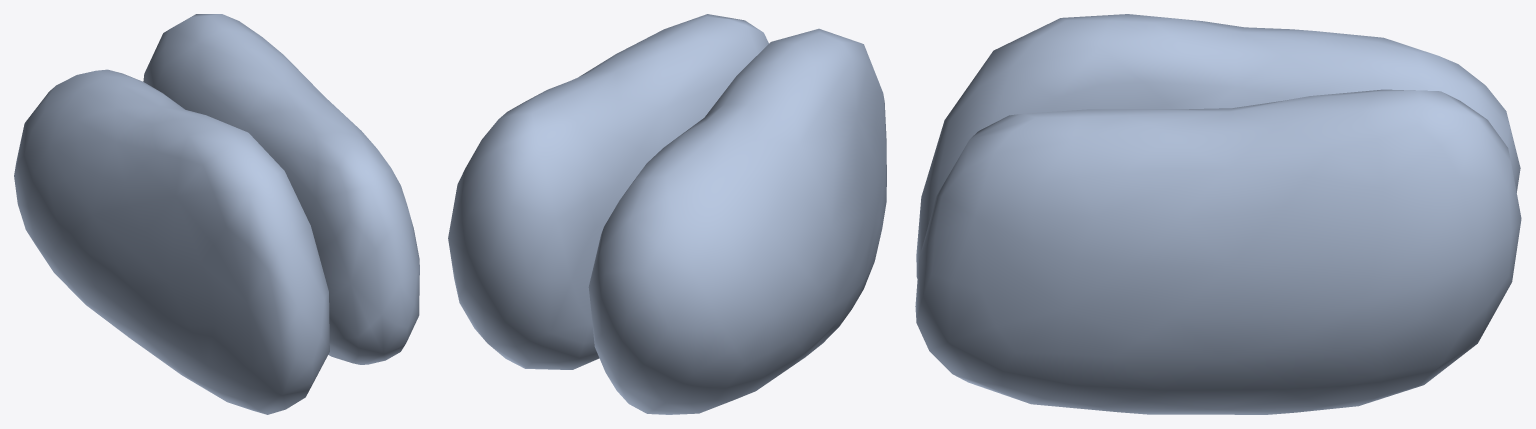
3 views of the same model, side by side, from view 1: azimuth 30°, elevation 25°; view 2: azimuth 150°, elevation 25°; view 3: azimuth 270°, elevation 25° (orthographic). The views are drawn at different scales.
Visible parts, largest first — view 1: 右侧筛骨中群小房; view 2: 右侧筛骨中群小房; view 3: 右侧筛骨中群小房.
Part boxes in pixels (x1,y1,x2,y2): 右侧筛骨中群小房: (14, 14, 419, 414); 右侧筛骨中群小房: (448, 14, 886, 414); 右侧筛骨中群小房: (915, 14, 1521, 414).
Bounding box in the file's own units: 0.0133 × 0.0123 × 0.0197.
